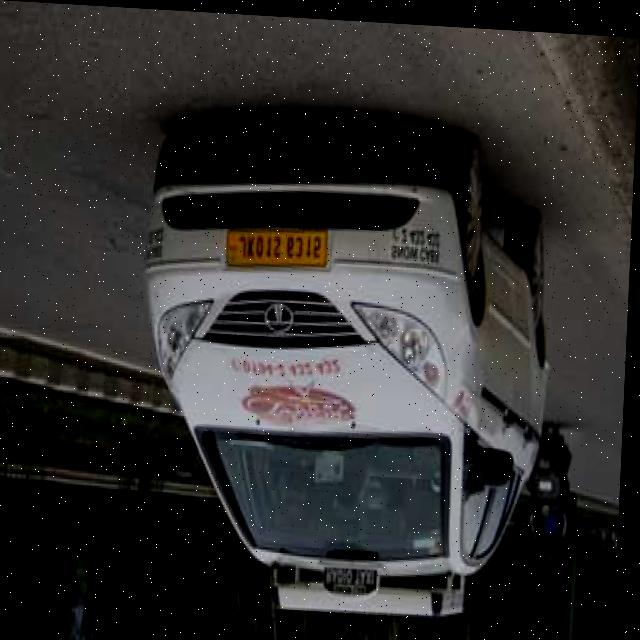plate: (221, 215, 336, 277)
